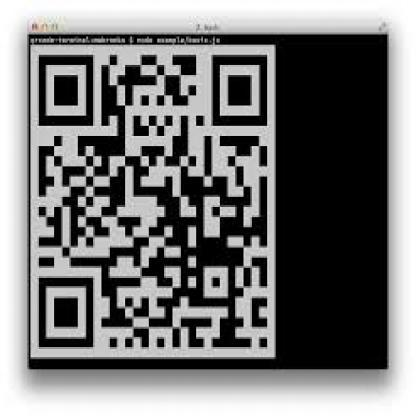qr_code: (40, 54, 267, 349)
